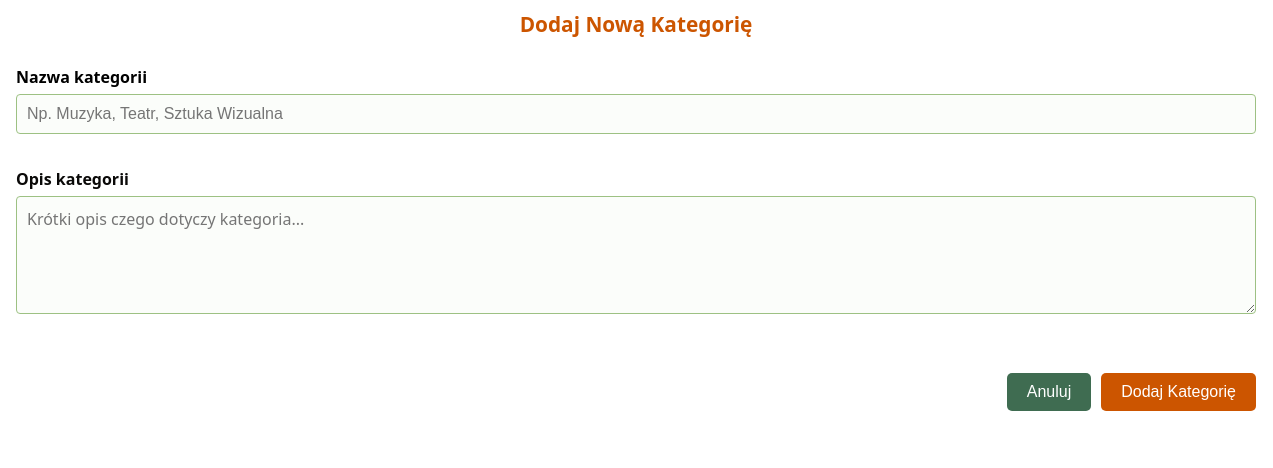
CreateCategory Component › Client-side validation › shows error if description is empty
Type "Valid Name" into the field labelled "Nazwa kategorii". click: (636, 114)
box: [16,94,1256,134]
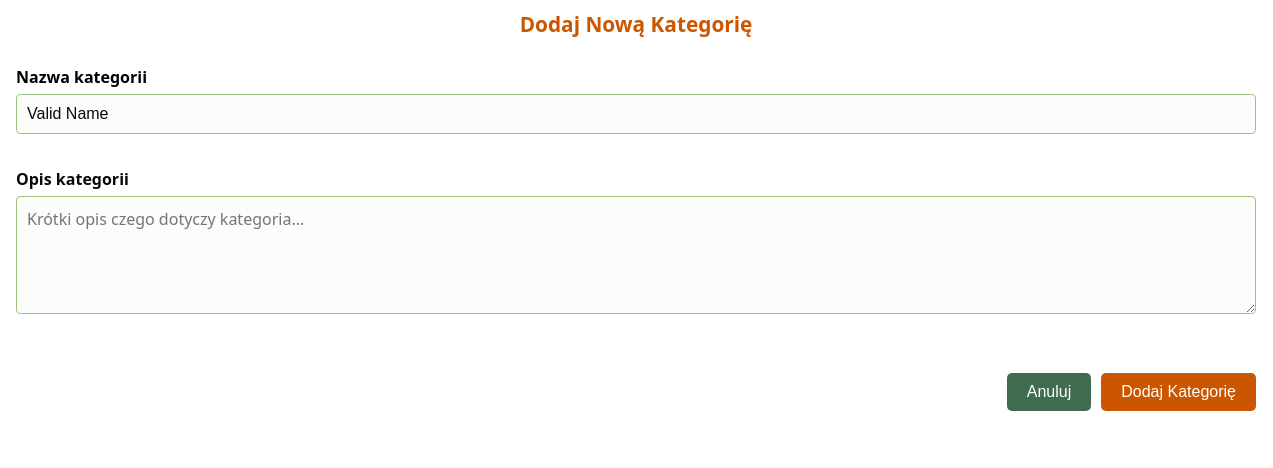
Click the button "Dodaj Kategorię". click: (1179, 392)
box: [1101,373,1256,411]
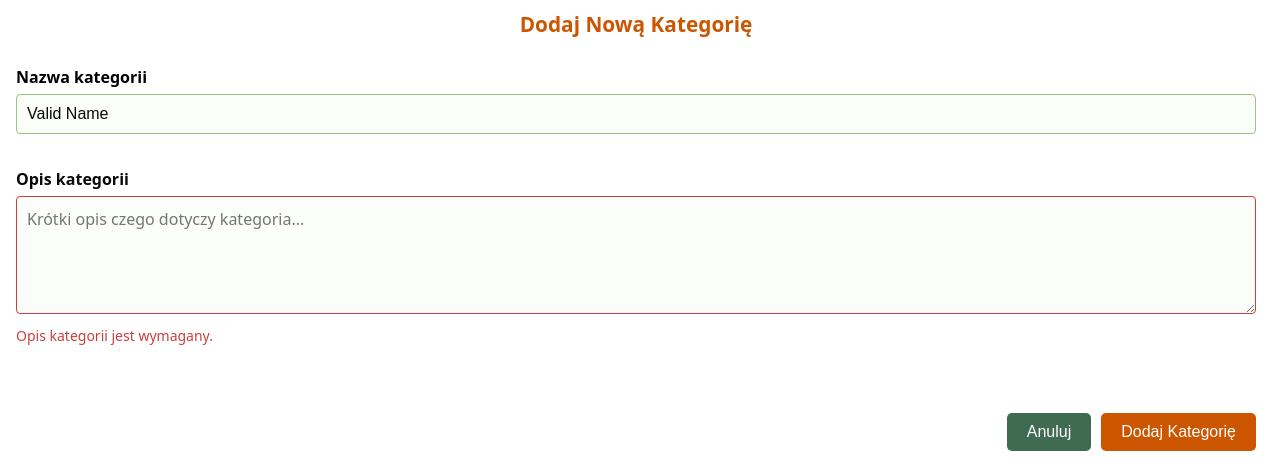
expect the text "Opis kategorii jest wymagany." is shown: met, box [16,326,213,345]
